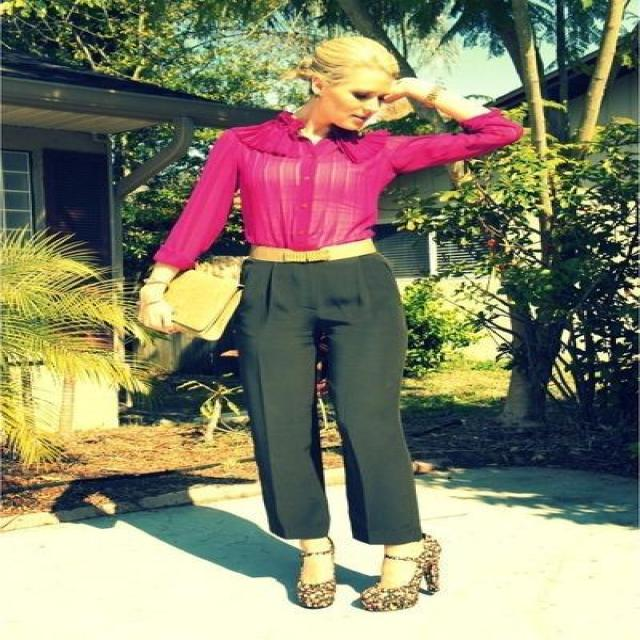bag: (181, 256, 248, 339)
pants: (211, 243, 440, 550)
shirt: (156, 115, 518, 267)
shoe: (301, 538, 440, 600)
